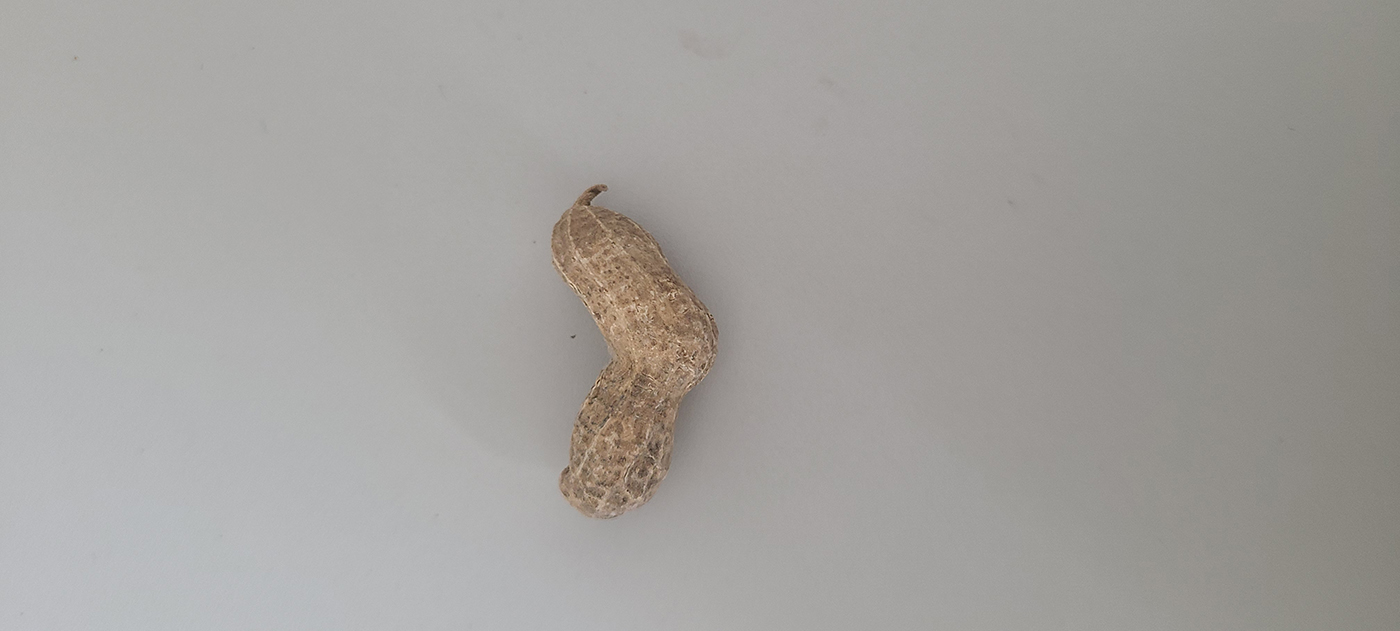h: (546, 205, 723, 519)
